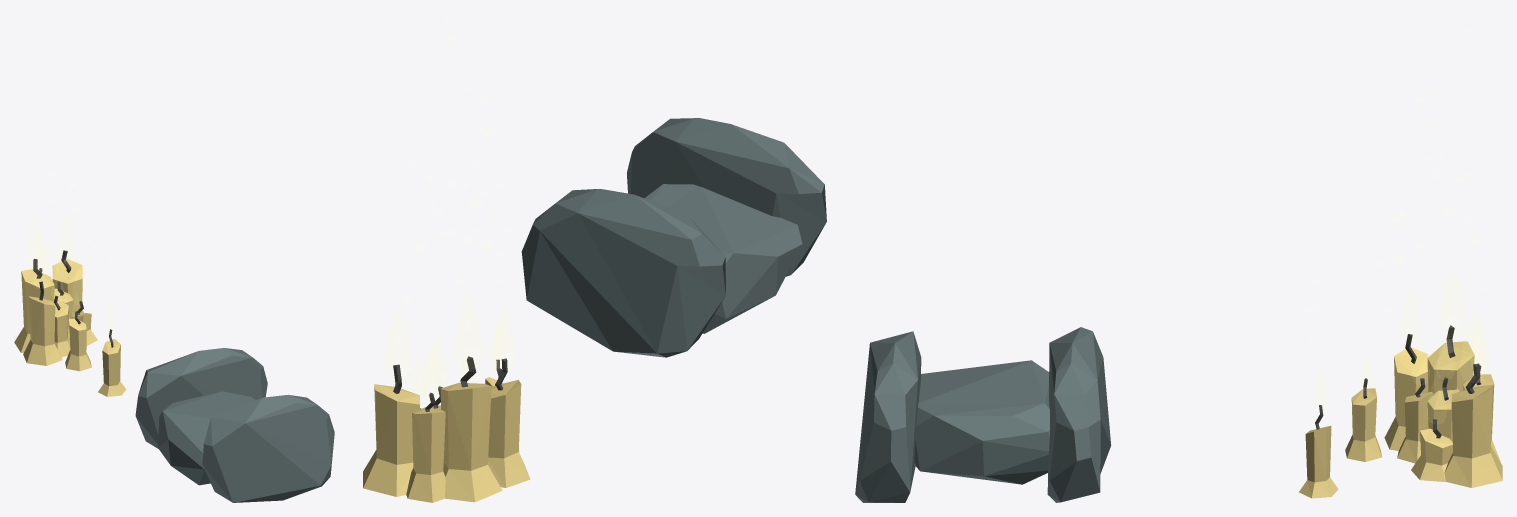
3 renders of one model, left to right at view 1: azimuth 30°, elevation 25°; view 2: azimuth 150°, elevation 25°; view 3: azimuth 270°, elevation 25°, orthographic. The views are drawn at different scales.
Parts seen in each view (by area): view 1: Box637_rock_0, Cylinder1567_yellow2_0, Cylinder1565_yellow2_0, Cylinder1567_black_0, Cylinder1567_L_fire_0; view 2: Box637_rock_0, Cylinder1567_yellow2_0, Cylinder1567_black_0, Cylinder1567_L_fire_0; view 3: Box637_rock_0, Cylinder1567_yellow2_0, Cylinder1565_yellow2_0, Cylinder1567_black_0.
Part boxes in pixels (box(x1,y1,x2,y2)): Box637_rock_0: box(135, 348, 334, 502); Cylinder1567_yellow2_0: box(14, 259, 97, 371); Cylinder1565_yellow2_0: box(98, 339, 126, 396); Cylinder1567_black_0: box(33, 250, 83, 324); Cylinder1567_L_fire_0: box(34, 235, 79, 304); Box637_rock_0: box(521, 118, 826, 357); Cylinder1567_yellow2_0: box(363, 379, 530, 502); Cylinder1567_black_0: box(393, 356, 507, 411); Cylinder1567_L_fire_0: box(421, 342, 503, 396); Box637_rock_0: box(855, 327, 1111, 502); Cylinder1567_yellow2_0: box(1345, 341, 1502, 487); Cylinder1565_yellow2_0: box(1299, 425, 1338, 498); Cylinder1567_black_0: box(1363, 325, 1481, 438).
Bounding box in the file's own units: 89.12 × 215 × 270.
